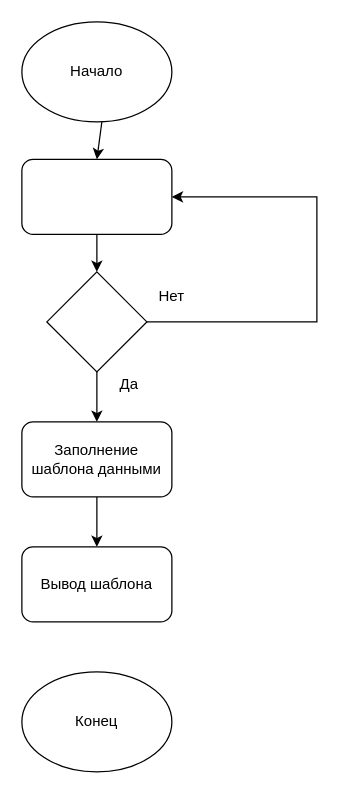
This 349x794 diagram has some shape labels left out. Here are the shapes that lost their labels. From the top down, the centre of each, then its label:
[96,196]: Предложение пользователю заполнить данные
[96,321]: Данные заполнены?
